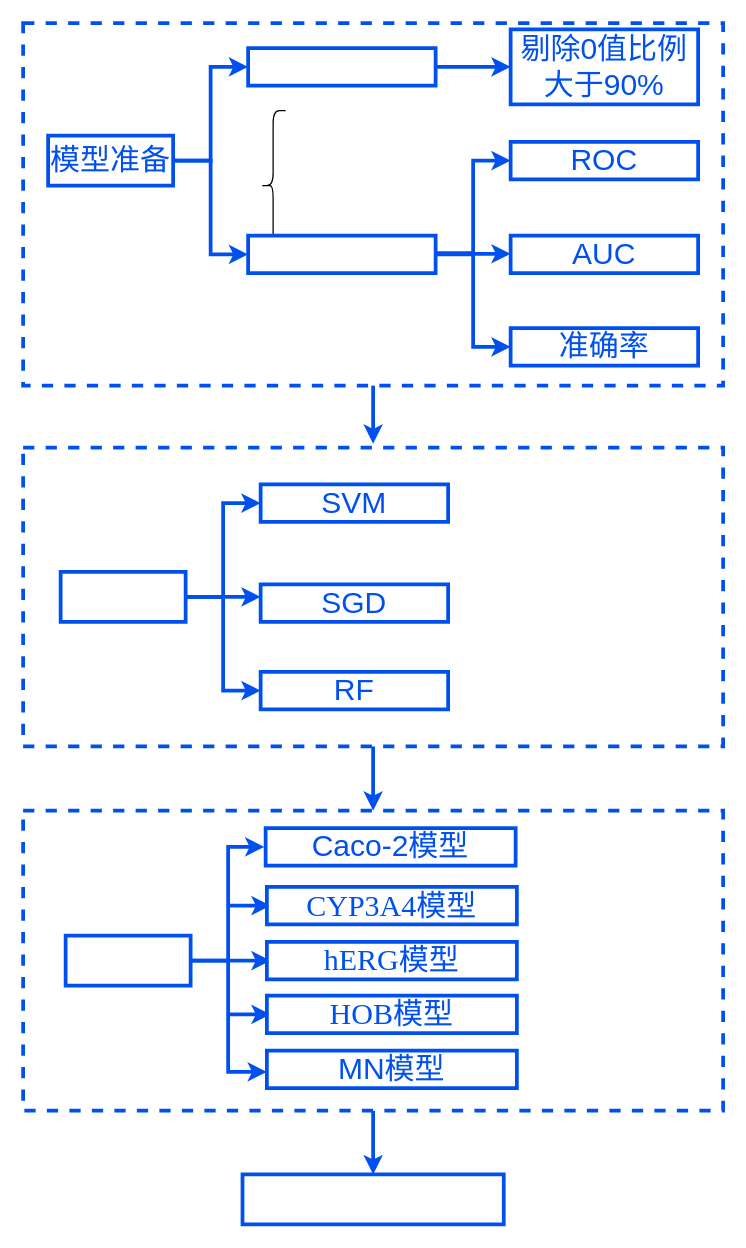
The diagram is 746 pixels wide and 1248 high, and some of its shapes have lost their labels. Here are the shapes that lost their labels. From the top down, the box of each, then its label:
(246, 46, 437, 87): 数据预处理
(246, 233, 437, 274): 评价标准
(58, 569, 187, 623): 模型建立
(63, 933, 192, 987): 模型求解
(240, 1172, 505, 1226): 五种分类模型确立
